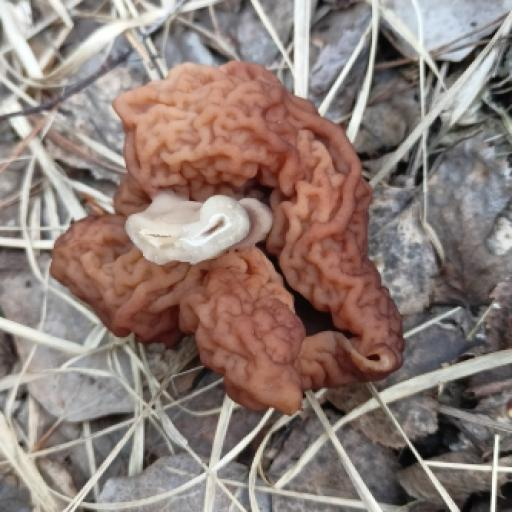mushroom: (58, 62, 401, 416)
